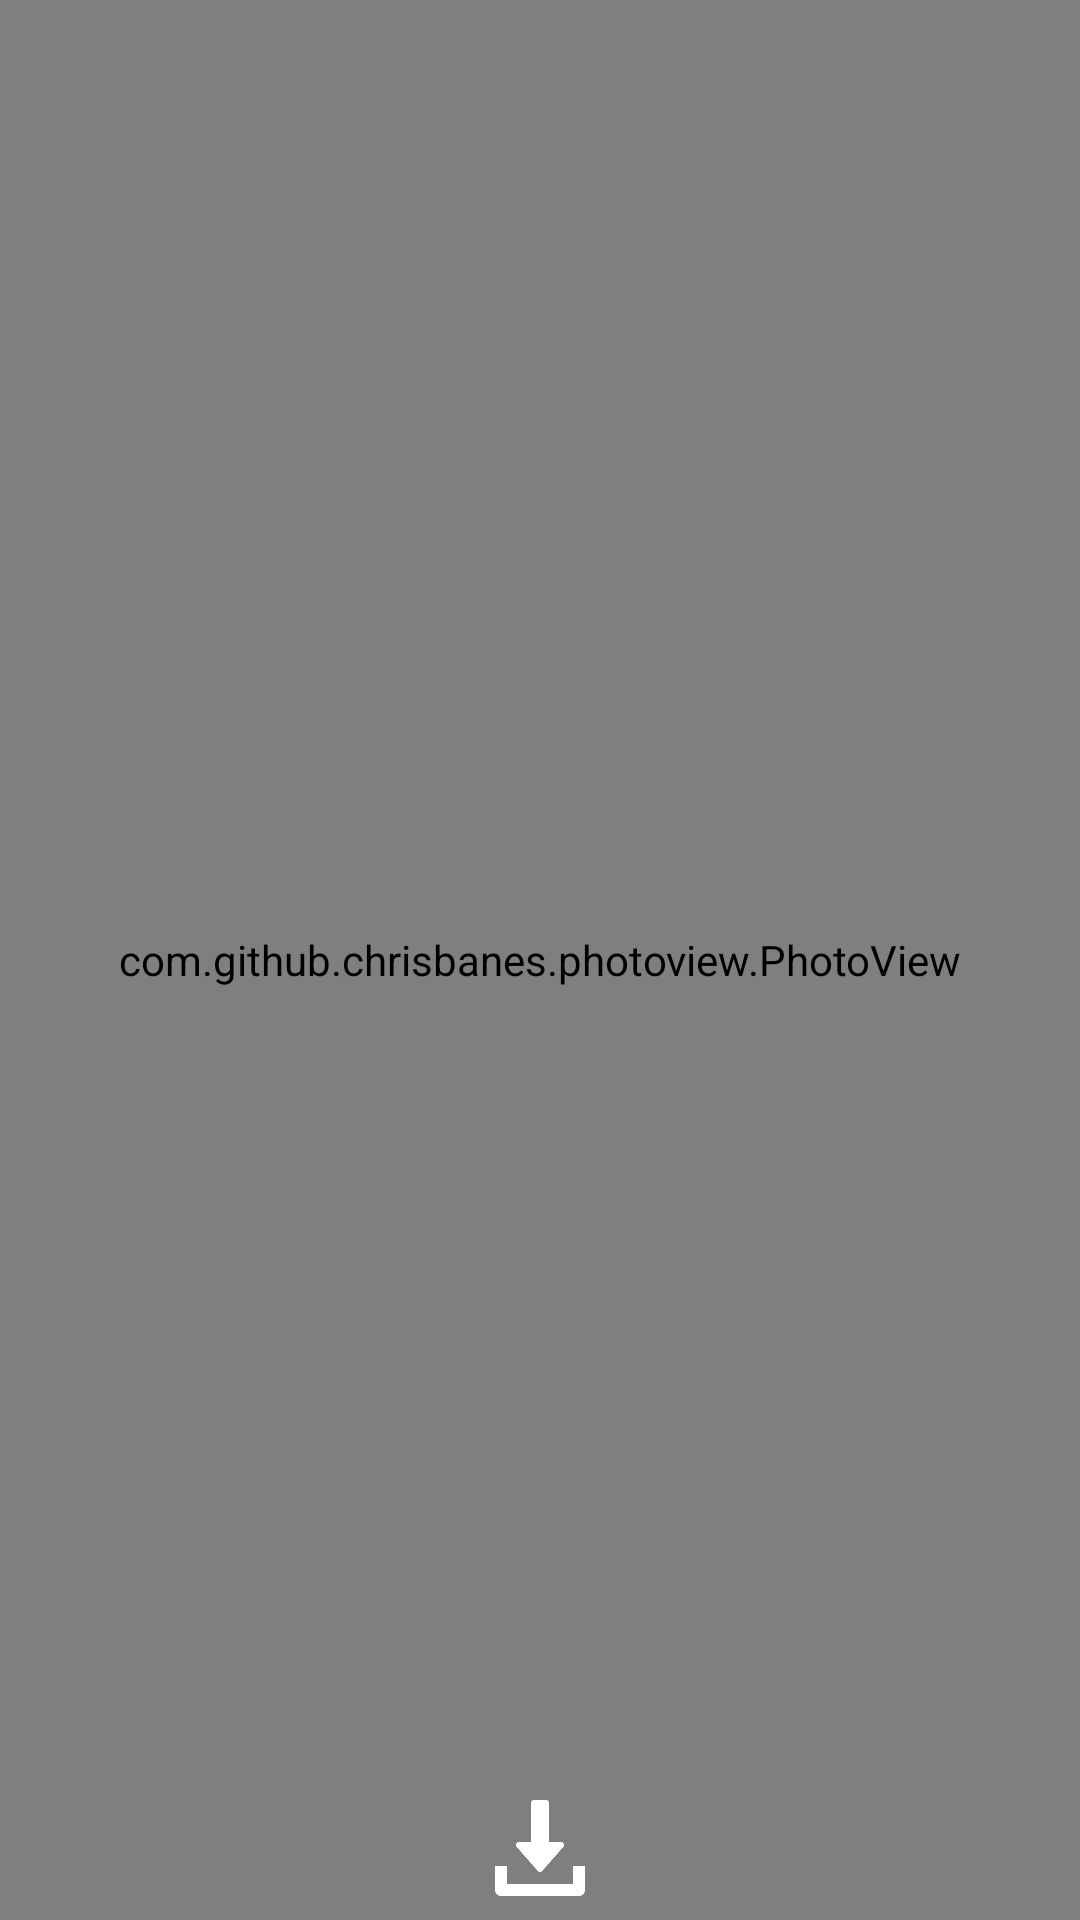

Icons on this 1080 x 1920 Android screen, each with the point to tap as (x,y):
download: (540,1848)
